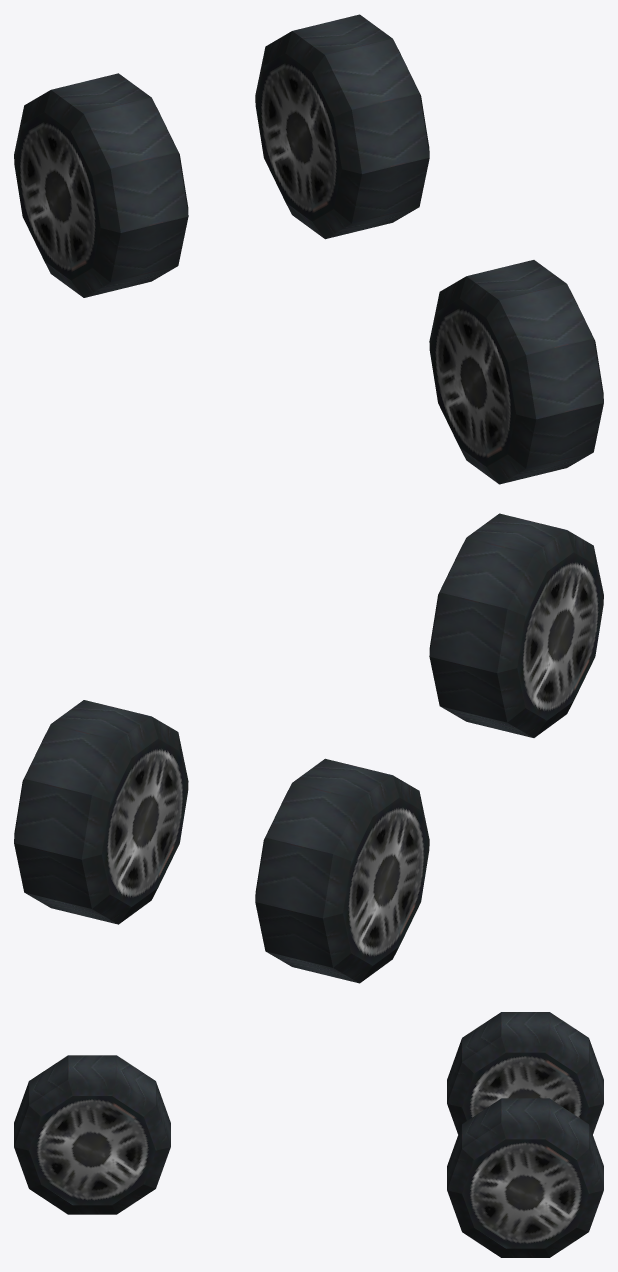
File: Kart 2 Wheels.glb
3 views of the same model, one above another, from view 1: azimuth 30°, elevation 25°; view 2: azimuth 150°, elevation 25°; view 3: azimuth 270°, elevation 25° (orthographic). The views are drawn at different scales.
Parts seen in each view (by area): view 1: left_wheel, front_wheel, right_wheel; view 2: right_wheel, front_wheel, left_wheel; view 3: front_wheel, left_wheel, right_wheel.
Boxes of the visible parts, left/top/right/bottom form: left_wheel: left=255, top=14, right=429, bottom=239; front_wheel: left=429, top=260, right=603, bottom=484; right_wheel: left=14, top=73, right=188, bottom=297; right_wheel: left=255, top=758, right=429, bottom=983; front_wheel: left=429, top=513, right=603, bottom=737; left_wheel: left=14, top=700, right=188, bottom=924; front_wheel: left=14, top=1055, right=170, bottom=1214; left_wheel: left=447, top=1098, right=603, bottom=1257; right_wheel: left=447, top=1012, right=603, bottom=1134.
Size of the model in its own units: 1.89 by 1.01 by 4.
Materials: 1 (1 with a texture image).
